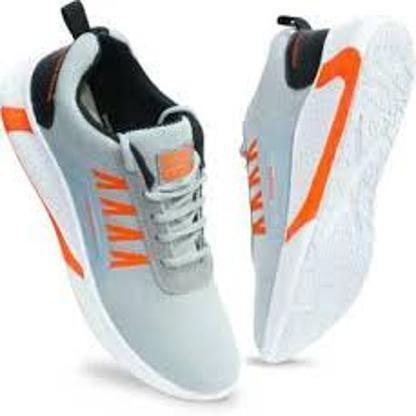not trash: (0, 0, 246, 407), (243, 5, 407, 354)
